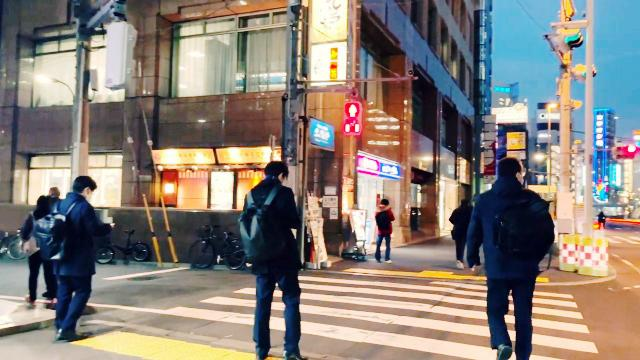berdiri: (242, 162, 310, 360), (58, 172, 109, 344)
berjalan: (466, 155, 557, 360)
